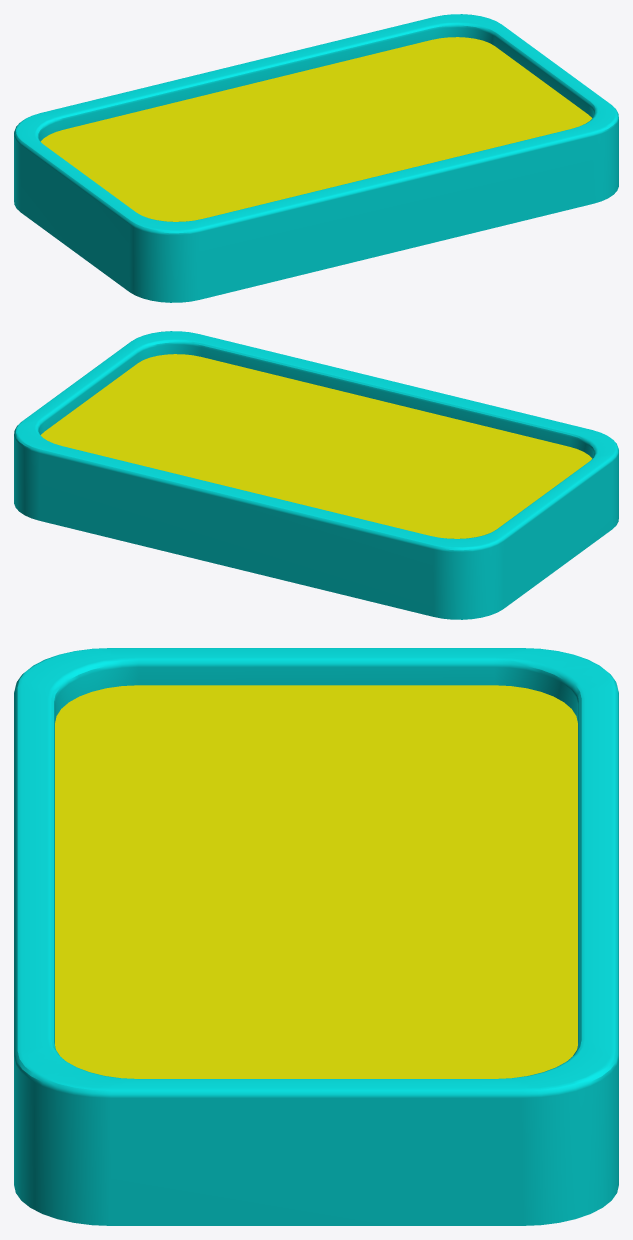
Rendered from board.fbx.
The picture shows the model from 3 angles, top to bottom: view 1: azimuth 30°, elevation 25°; view 2: azimuth 150°, elevation 25°; view 3: azimuth 270°, elevation 25°; orthographic projection. The views are drawn at different scales.
Parts seen in each view (by area): view 1: pCube2; view 2: pCube2; view 3: pCube2.
Boxes of the visible parts, bbox=[...] form: pCube2: bbox=[14, 14, 618, 302]; pCube2: bbox=[14, 331, 618, 619]; pCube2: bbox=[14, 648, 618, 1225].
Size of the model in its own units: 13.11 by 1.85 by 7.52.
